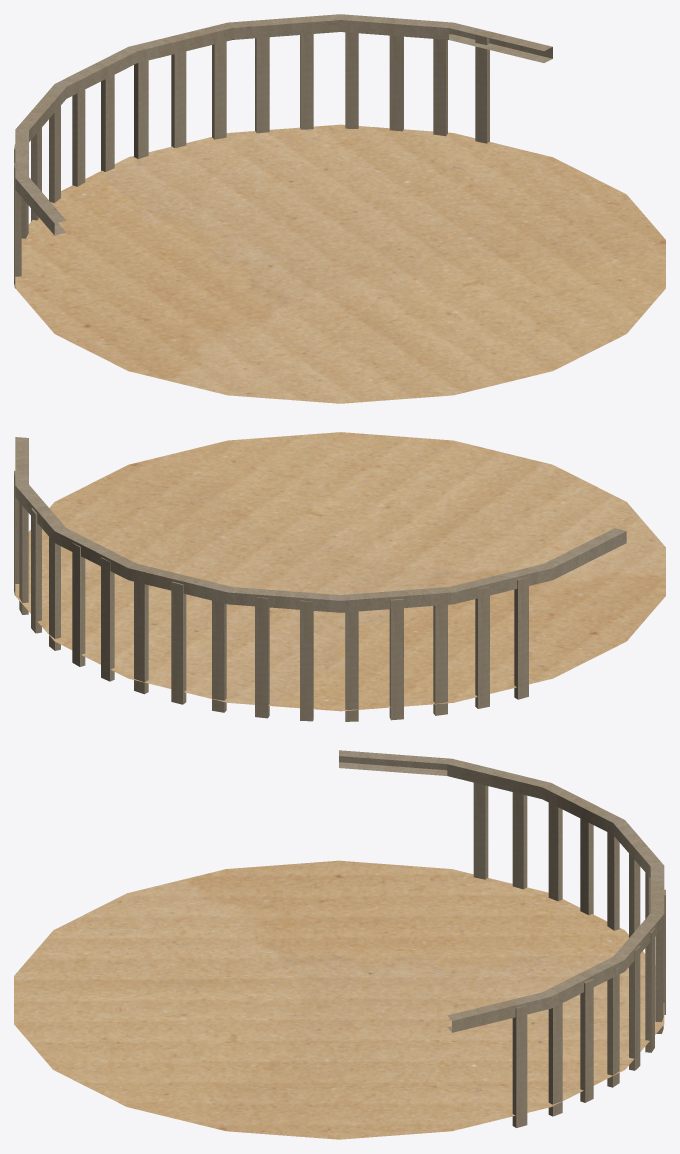
Rendered from 01balcony 1.FBX.
3 views of the same model, one above another, from view 1: azimuth 30°, elevation 25°; view 2: azimuth 150°, elevation 25°; view 3: azimuth 270°, elevation 25° (orthographic).
Parts seen in each view (by area): view 1: balcony; view 2: balcony; view 3: balcony.
Part boxes in pixels (box(x1,y1,x2,y2)): balcony: box(14, 14, 665, 403); balcony: box(14, 432, 665, 721); balcony: box(14, 750, 665, 1139).
Bounding box in the file's own units: 20.06 × 4.1 × 19.81.
1 material, 1 textured.
